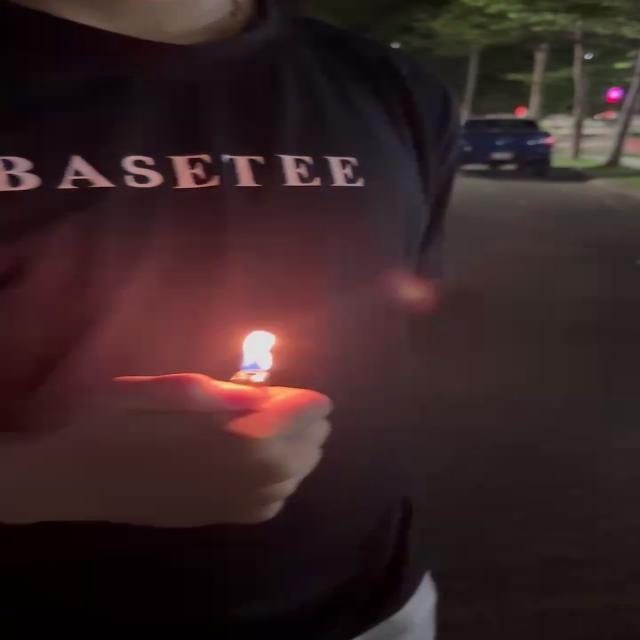Fire: (236, 331, 284, 376)
